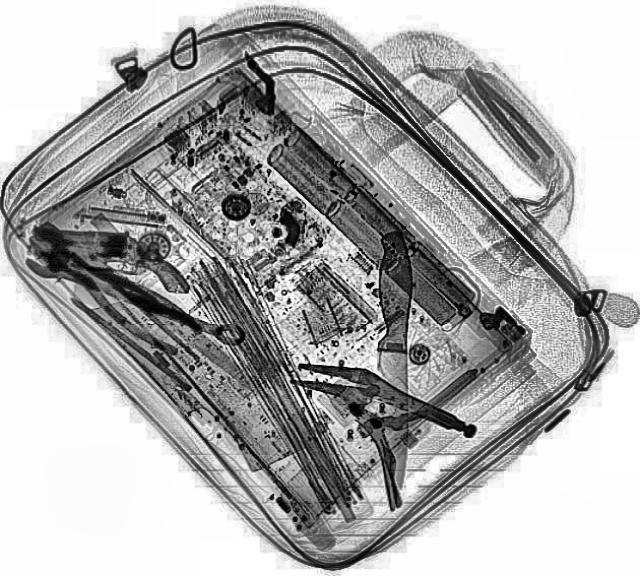Gun: (25, 226, 193, 294)
Knife: (34, 214, 300, 418), (372, 232, 418, 486)
Pliers: (10, 211, 242, 367)
Wrench: (19, 236, 254, 354)
